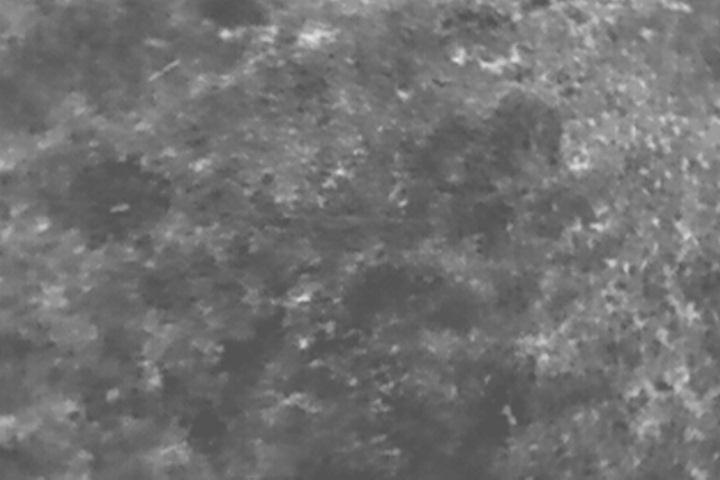landmine: (293, 286, 317, 309)
